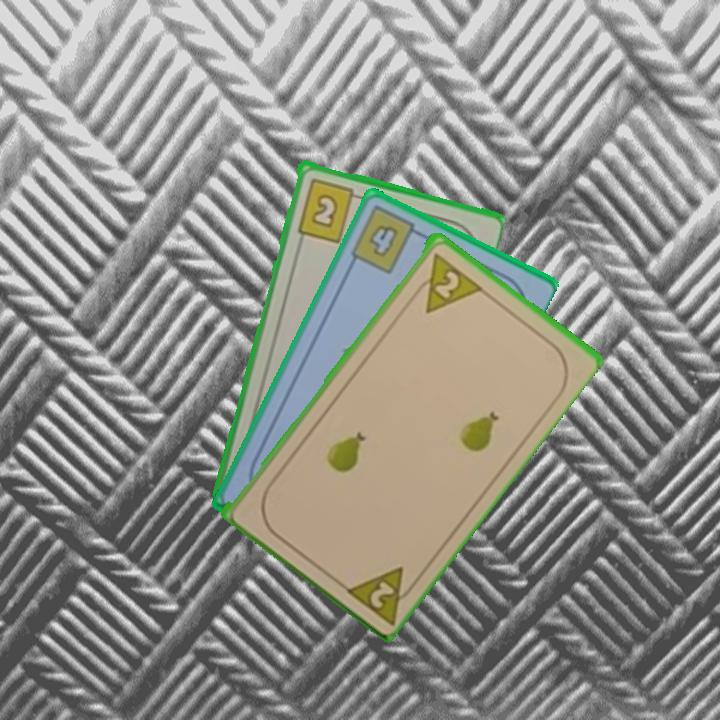2b: (293, 174, 365, 245)
2p: (339, 561, 422, 627), (408, 247, 484, 316)
4b: (346, 202, 426, 277)
